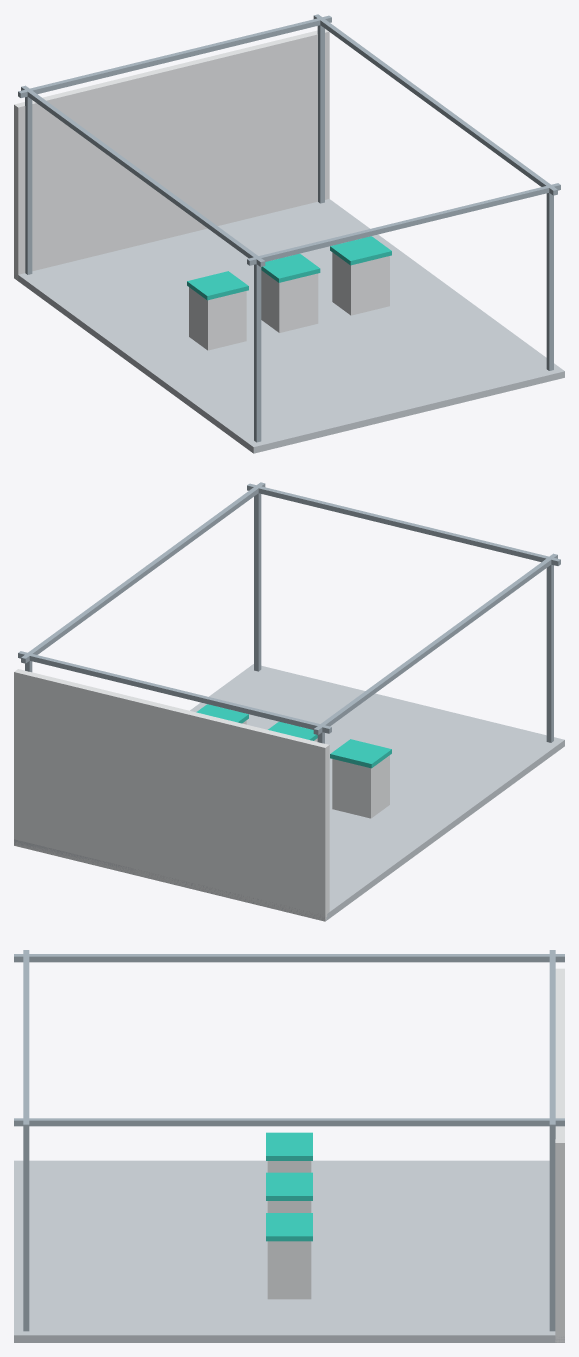
3 views of the same model, one above another, from view 1: azimuth 30°, elevation 25°; view 2: azimuth 150°, elevation 25°; view 3: azimuth 270°, elevation 25° (orthographic). The views are drawn at different scales.
Parts seen in each view (by area): view 1: Exhibition Booth Concept; view 2: Exhibition Booth Concept; view 3: Exhibition Booth Concept.
Part boxes in pixels (left/top/right/bottom): Exhibition Booth Concept: left=14, top=14, right=564, bottom=453; Exhibition Booth Concept: left=14, top=482, right=564, bottom=921; Exhibition Booth Concept: left=14, top=950, right=564, bottom=1342.
Bounding box in the file's own units: 6 × 3.49 × 8.
